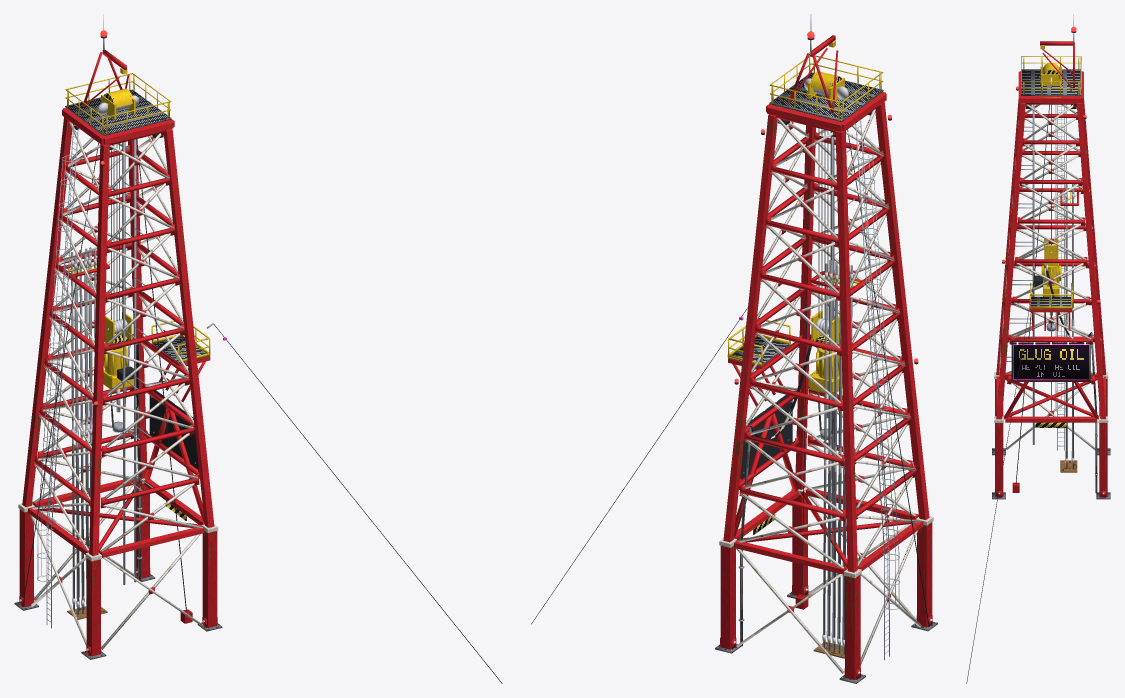
Rendered from p_derrick.glb.
3 views of the same model, side by side, from view 1: azimuth 30°, elevation 25°; view 2: azimuth 150°, elevation 25°; view 3: azimuth 270°, elevation 25° (orthographic). The views are drawn at different scales.
Parts seen in each view (by area): view 1: p_derrick_lod0; view 2: p_derrick_lod0; view 3: p_derrick_lod0.
Part boxes in pixels (x1,y1,x2,y2): p_derrick_lod0: [14, 14, 502, 683]; p_derrick_lod0: [531, 14, 937, 683]; p_derrick_lod0: [966, 14, 1110, 683].
Size of what is drawn, in the model's own units: 27.14 by 42.61 by 10.22.
4 materials, 1 textured.
